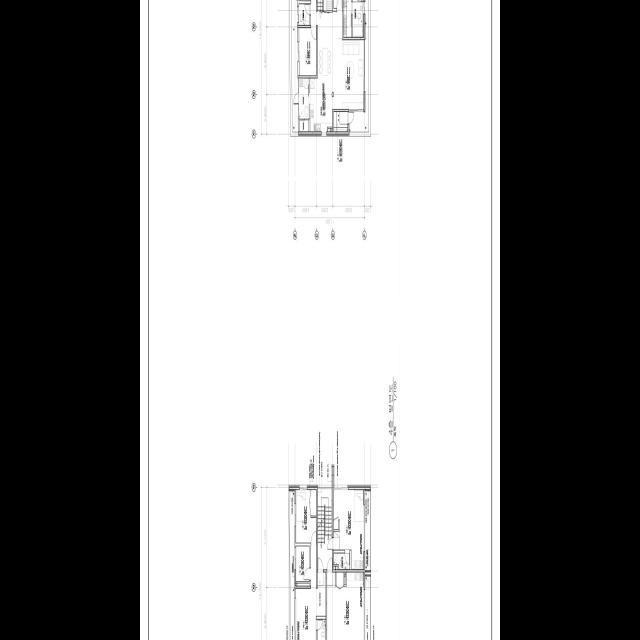background: (140, 0, 500, 640)
space_balconi: (349, 0, 369, 131), (291, 0, 298, 131), (289, 490, 294, 640), (365, 491, 370, 570), (365, 576, 370, 640)
space_bedroom: (334, 489, 363, 549), (296, 489, 316, 542), (299, 27, 316, 75), (296, 545, 309, 581)
space_front: (334, 531, 340, 549), (327, 572, 335, 585), (318, 572, 326, 585), (324, 0, 332, 10)
space_kitchen: (310, 26, 332, 131), (343, 572, 364, 599), (352, 521, 363, 569), (299, 78, 309, 118), (296, 629, 309, 640)
space_living_room: (311, 2, 364, 109), (296, 545, 326, 640), (327, 572, 364, 640)
space_other: (334, 111, 348, 131), (300, 120, 309, 131), (296, 583, 309, 585), (344, 572, 346, 584), (328, 128, 332, 131), (334, 566, 338, 569)
space_staircase: (318, 488, 332, 569)
space_toilet: (353, 0, 363, 36), (334, 553, 350, 569), (299, 3, 309, 24), (318, 619, 326, 640)
